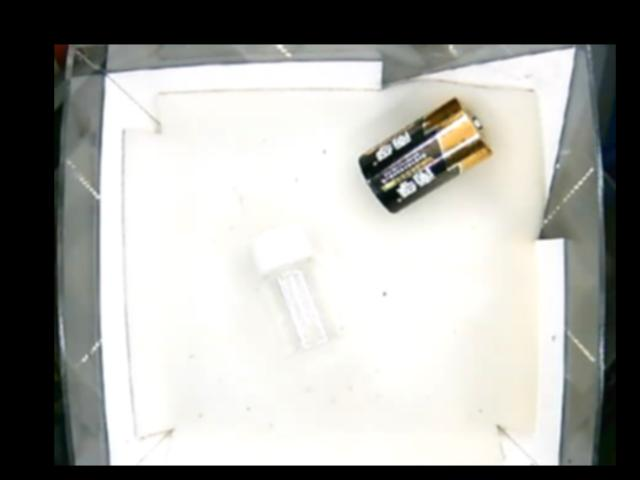Battery: (355, 96, 494, 211)
Bottle: (247, 232, 342, 351)
